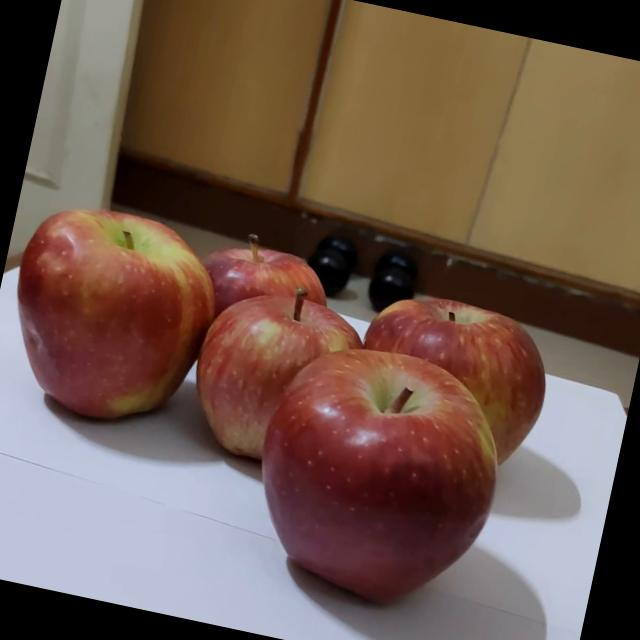apple: (154, 300, 432, 590), (330, 271, 560, 494), (15, 177, 236, 405), (165, 249, 362, 446), (198, 216, 364, 379)
